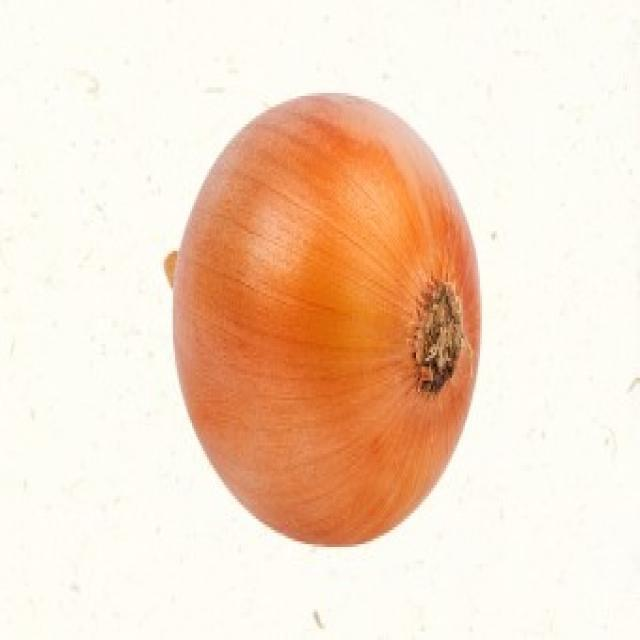onion: (169, 93, 484, 551)
